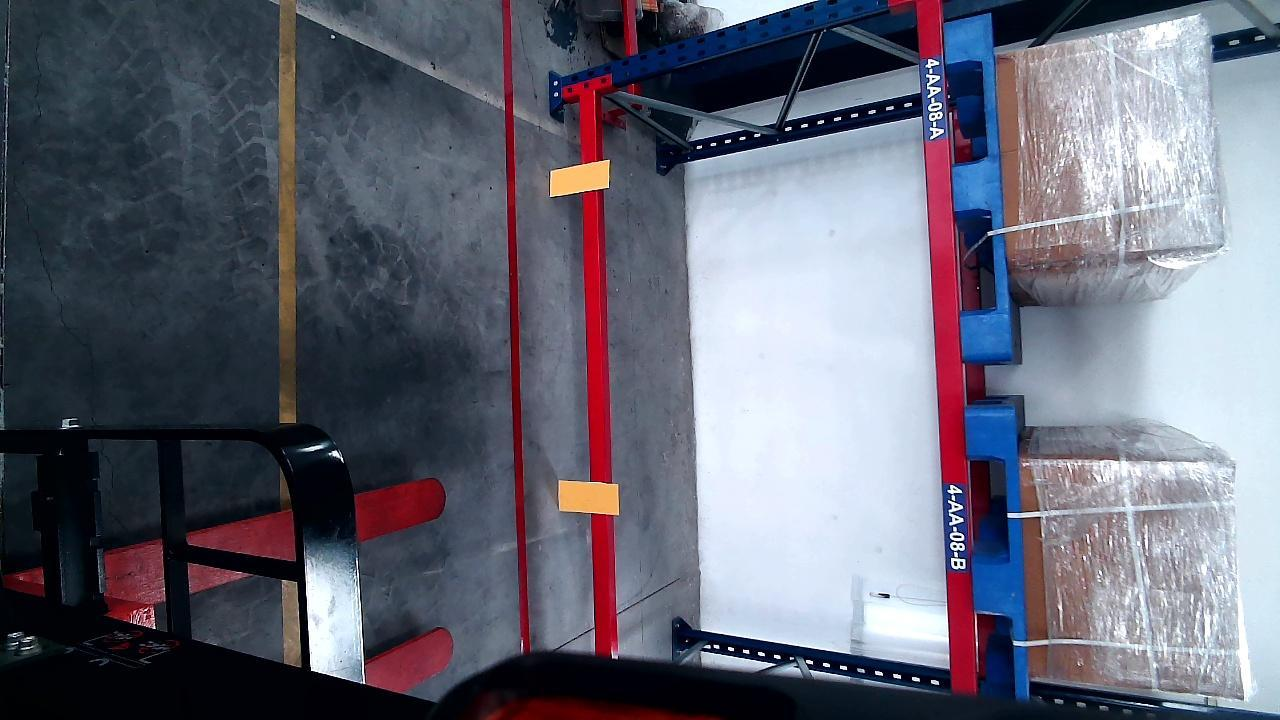red_line: (501, 2, 527, 651)
yellow_line: (277, 4, 300, 414)
